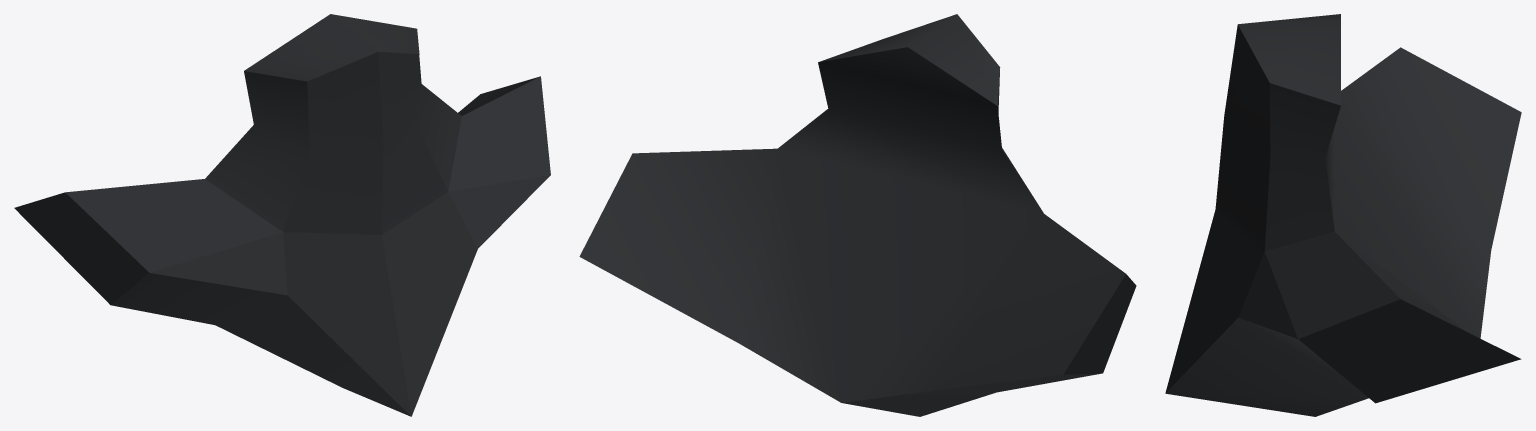
The model's file is SM_Chr_Attach_Beard_04.fbx.
The picture shows the model from 3 angles, left to right: view 1: azimuth 30°, elevation 25°; view 2: azimuth 150°, elevation 25°; view 3: azimuth 270°, elevation 25°; orthographic projection. The views are drawn at different scales.
Parts seen in each view (by area): view 1: SM_Chr_Attach_Beard_04; view 2: SM_Chr_Attach_Beard_04; view 3: SM_Chr_Attach_Beard_04.
Boxes of the visible parts, x1=… form: SM_Chr_Attach_Beard_04: x1=14, y1=14, x2=550, y2=416; SM_Chr_Attach_Beard_04: x1=579, y1=14, x2=1136, y2=416; SM_Chr_Attach_Beard_04: x1=1165, y1=14, x2=1521, y2=416.
Size of the model in its own units: 8.34 by 6.12 by 4.99.
